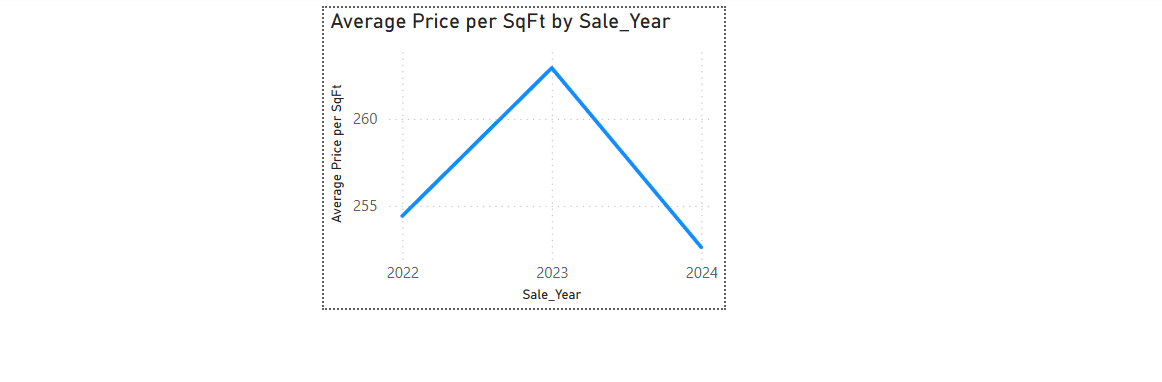

Layout of this report page (visuals, bound fields, positions):
{"tool":"powerbi","page":{"name":"City Tooltip","canvas":[320,240],"ordinal":3},"visuals":[{"type":"lineChart","fields":{"Category":["Property_Sales.Sale_Year"],"Y":["Property_Sales.Average Price per SqFt"]},"box":[0,0,320,240],"z":0}]}

Visuals, with their boxes on the page's 320x240 design canvas (x1, y1, x2, y2). These are canvas units, not pixel positions in the 1162x382 screenshot, which may show the page scaled, cropped or inside an application window:
lineChart - Property_Sales.Sale_Year x Property_Sales.Average Price per SqFt: 0 0 320 240
